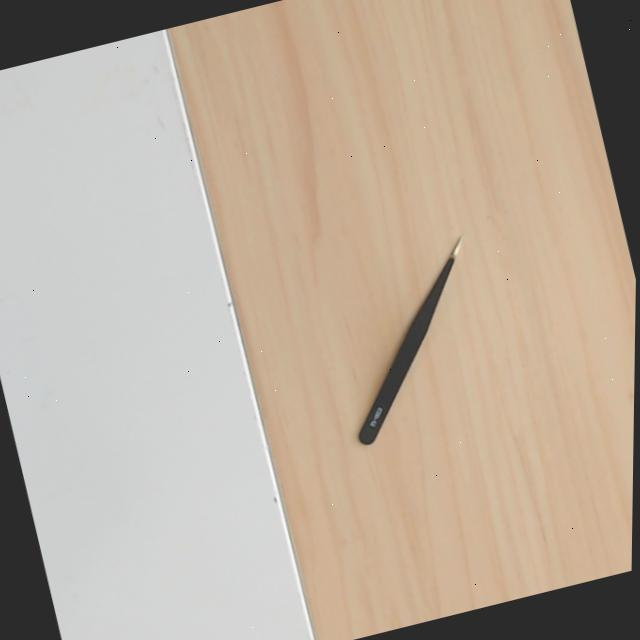Tweezers: (353, 228, 467, 450)
